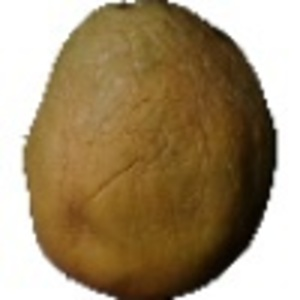mamão: (17, 4, 280, 294)
